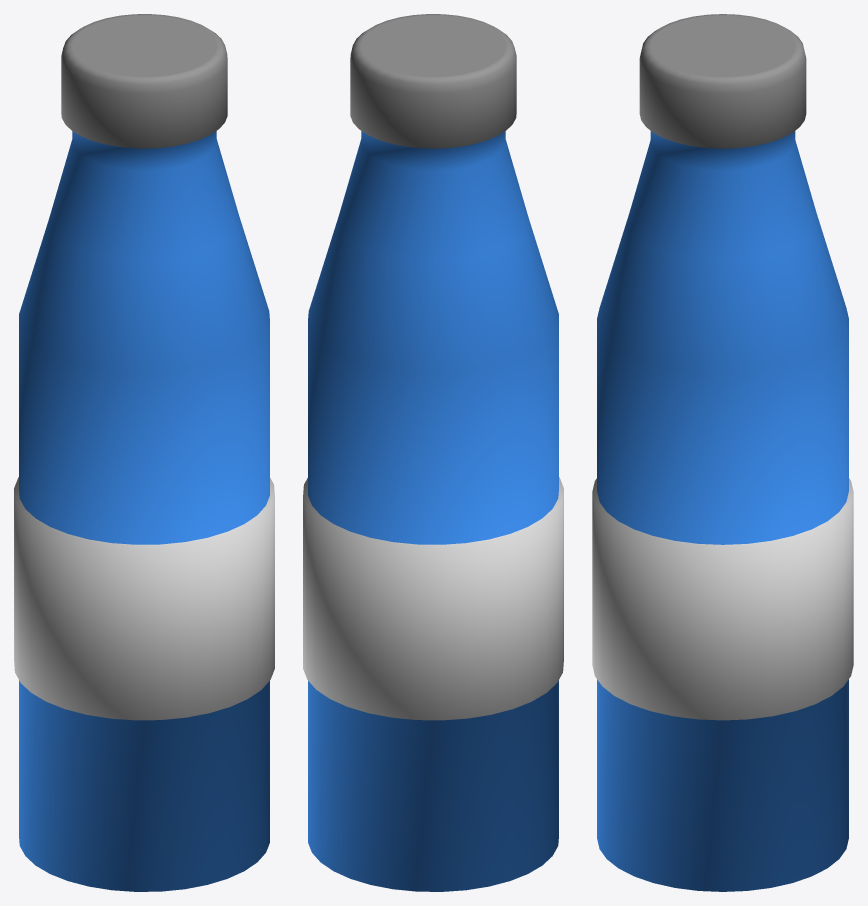
The model's file is Bottle_1.fbx.
3 renders of one model, left to right at view 1: azimuth 30°, elevation 25°; view 2: azimuth 150°, elevation 25°; view 3: azimuth 270°, elevation 25°, orthographic.
Parts seen in each view (by area): view 1: Cylinder; view 2: Cylinder; view 3: Cylinder.
Part boxes in pixels (left/top/right/bottom): Cylinder: left=14, top=14, right=274, bottom=891; Cylinder: left=303, top=14, right=563, bottom=891; Cylinder: left=592, top=14, right=853, bottom=891.
Bounding box in the file's own units: 19.43 × 65.03 × 19.43.
